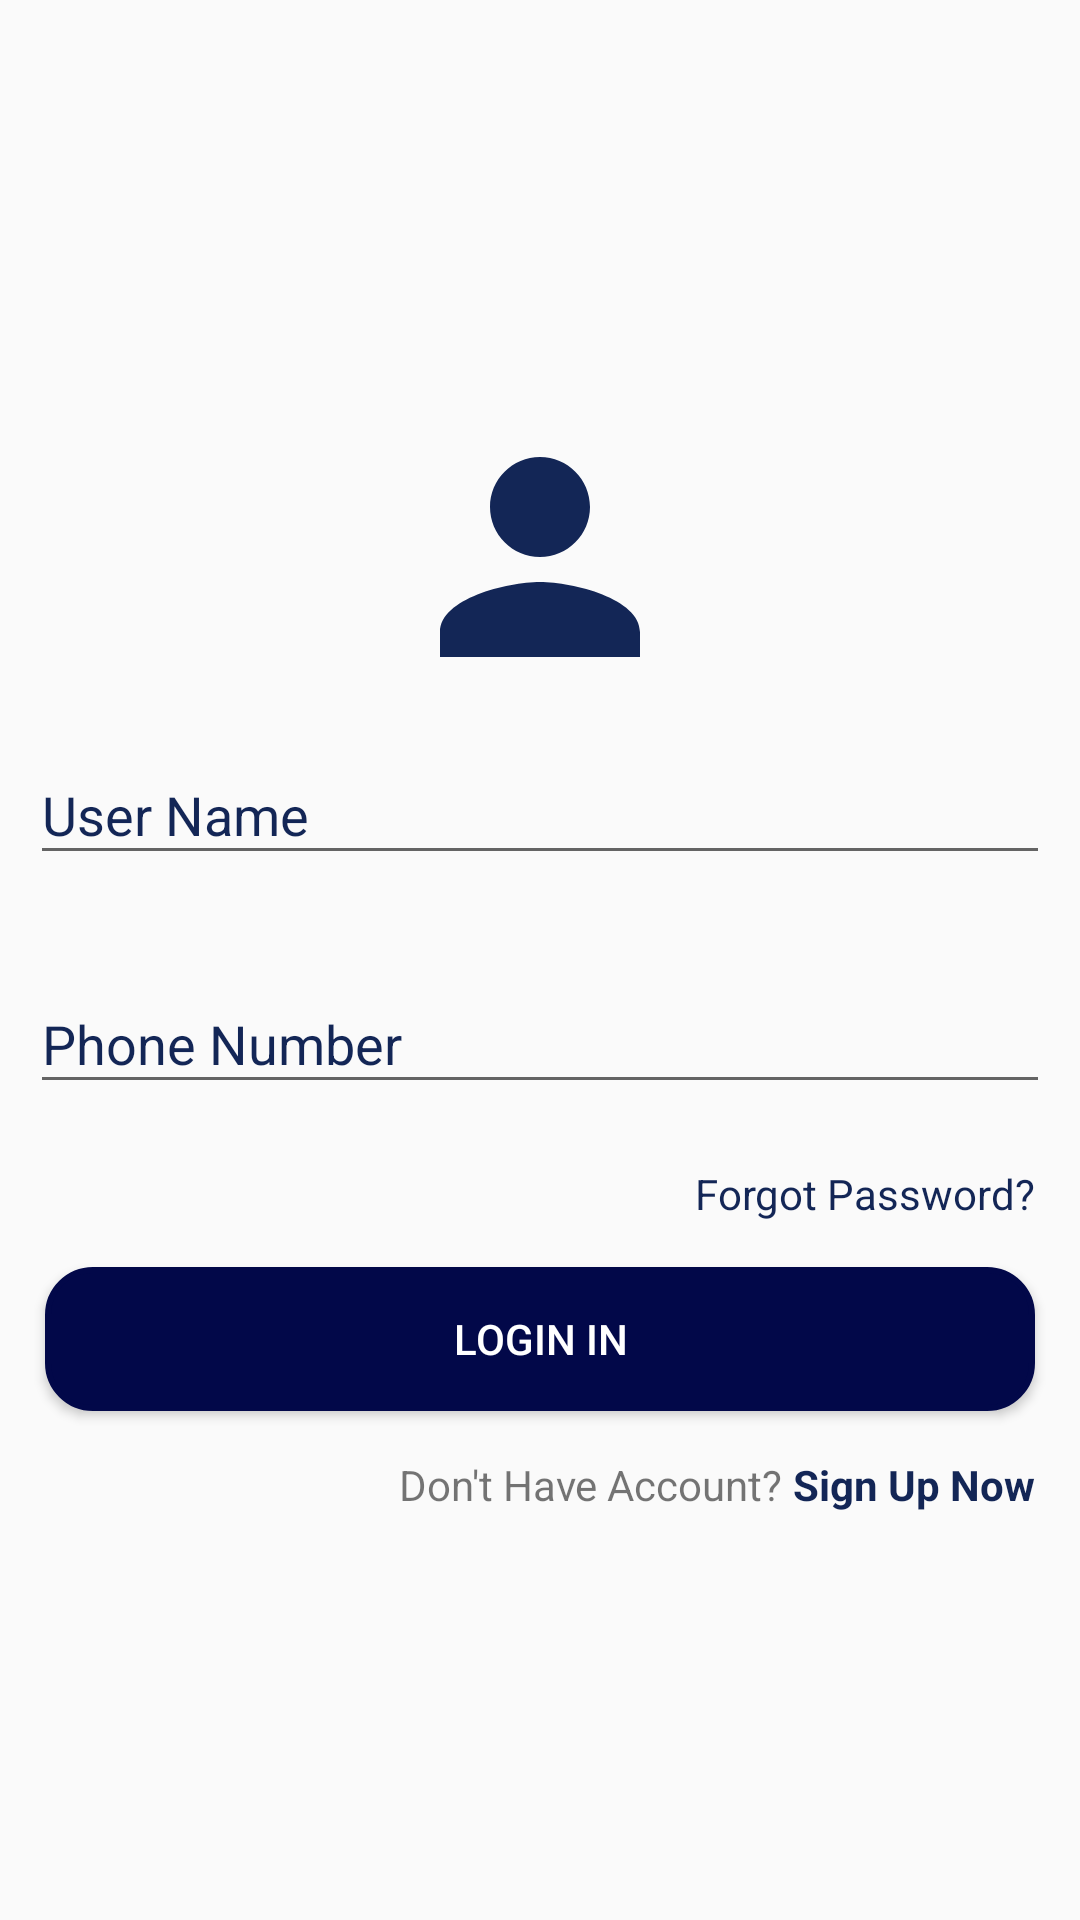

Point at icon controls on the screen. Image size 1080w x 1920h, points as point (x, y).
person: point (540, 557)
